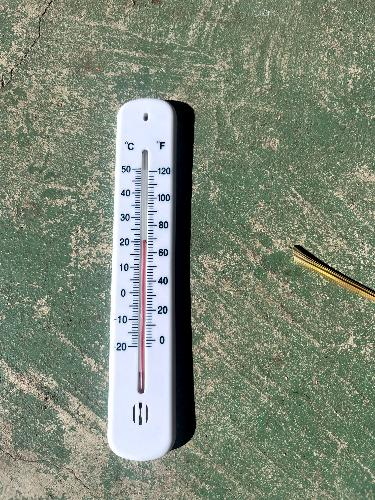thermo: (105, 99, 174, 454)
